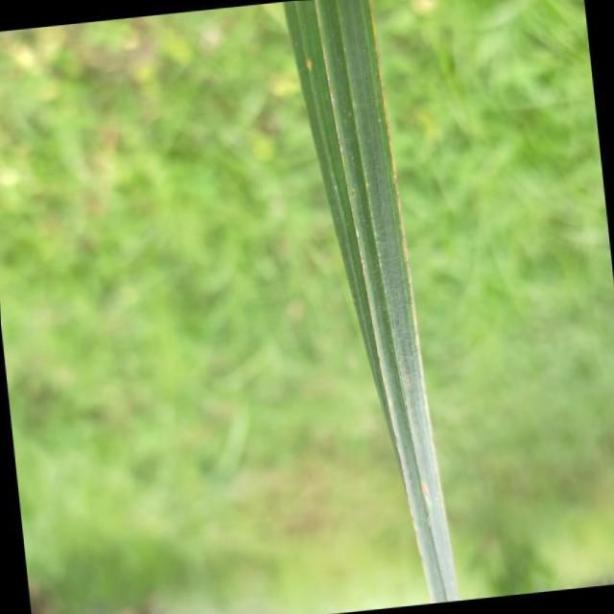Boron: (281, 1, 458, 614)
